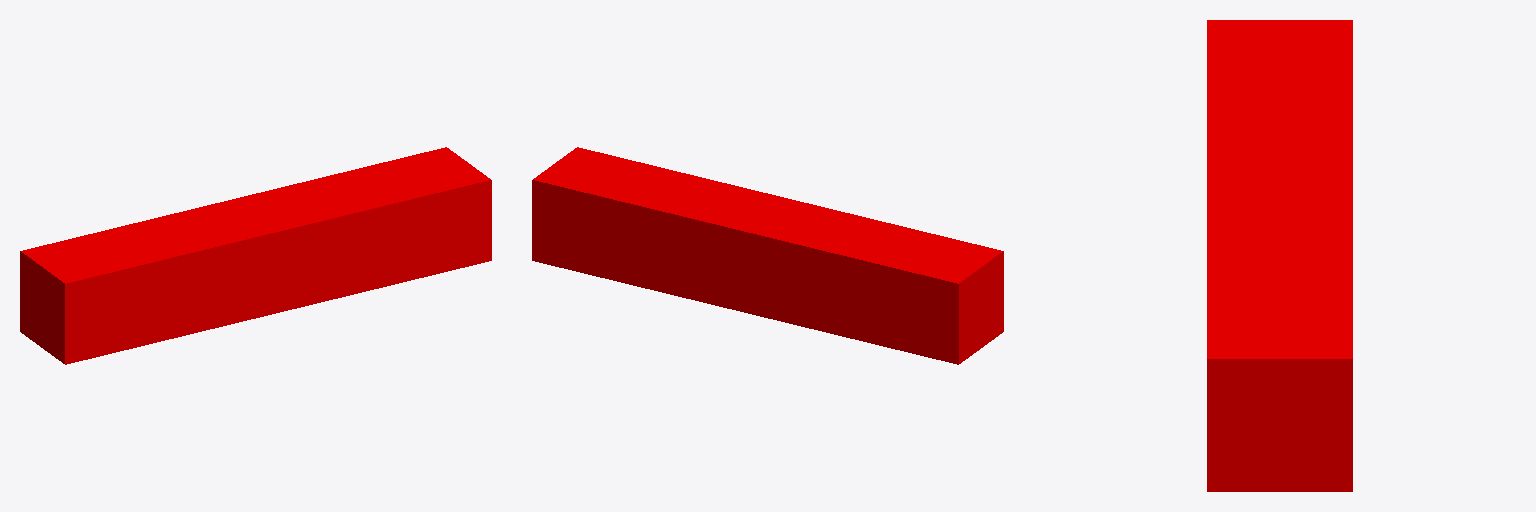
The robot description file, URDF, robot "wall7":
<?xml version="1.0"?>
<robot name="wall7">
	<link name="base">
	<inertial>
        	 <origin xyz="0 0 0" rpy="0 0 0"/>
        	 <mass value="3"/>
        	 <inertia ixx="0.000683333"  ixy="0"  ixz="0" iyy="0.000683333" iyz="0" izz="0.000683333" />
       </inertial>
		<visual>
			<origin xyz="0 0 0" rpy="0 0 0" />
			<geometry>
				<box size="0.11 0.02 0.02" />
			</geometry>
			<material>
				<color rgba="1 0 0 1" />
			</material>
		</visual>
		<collision>
			<origin xyz="0 0 0" rpy="0 0 0" />
			<material>
				<color rgba="1 0 0 1" />
			</material>
			<geometry>
				<box size="0.11 0.02 0.02" />
			</geometry>
			
		</collision>

	</link>
</robot>

--- What the picture shows (computed from the rendered views, not written in the file) ---
3 views of the same robot in one strip: view 1: azimuth 30°, elevation 25°; view 2: azimuth 150°, elevation 25°; view 3: azimuth 270°, elevation 25° (orthographic).
Robot: wall7 — 1 links, 0 joints (none); root link base; default pose: all joints at 0.
Links seen in each view (by area): view 1: base; view 2: base; view 3: base.
Boxes of the visible links, x1=… form: base: x1=20, y1=147, x2=491, y2=364; base: x1=532, y1=147, x2=1003, y2=364; base: x1=1207, y1=20, x2=1352, y2=491.
Size in the robot's own frame: 0.11 by 0.02 by 0.02 metres.
Geometry: primitives only (box / cylinder / sphere), no mesh files.
